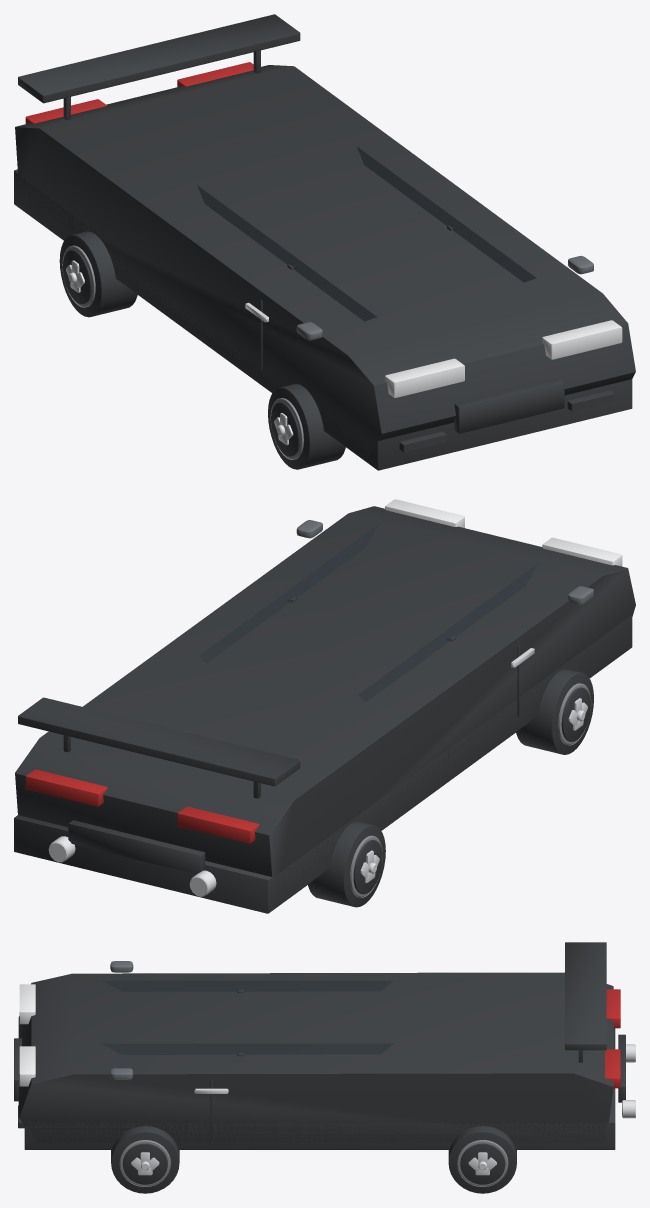
File: obsidian-xr.glb
The picture shows the model from 3 angles, top to bottom: view 1: azimuth 30°, elevation 25°; view 2: azimuth 150°, elevation 25°; view 3: azimuth 270°, elevation 25°; orthographic projection. The views are drawn at different scales.
Visible parts, largest first — view 1: trim, glass, head, tail, rim, paint, accent; view 2: trim, glass, tail, head, rim, paint, accent; view 3: trim, glass, rim, head, tail, paint, accent.
Part boxes in pixels (x1,y1,x2,y2): trim: (14,14,635,470); glass: (197,147,536,321); head: (385,320,622,397); tail: (25,62,253,123); rim: (66,260,293,445); paint: (62,245,303,459); accent: (296,255,593,340); trim: (14,506,635,913); glass: (199,524,537,701); tail: (25,769,259,843); head: (385,499,622,566); rim: (48,648,587,896); paint: (350,683,591,897); accent: (296,520,593,604); trim: (14,942,625,1193); glass: (102,980,392,1054); rim: (131,1044,635,1175); head: (19,984,35,1086); tail: (605,989,620,1088); paint: (119,1140,508,1186); accent: (110,961,133,1079).
Size of the model in its own units: 2.24 by 1.26 by 4.9.
